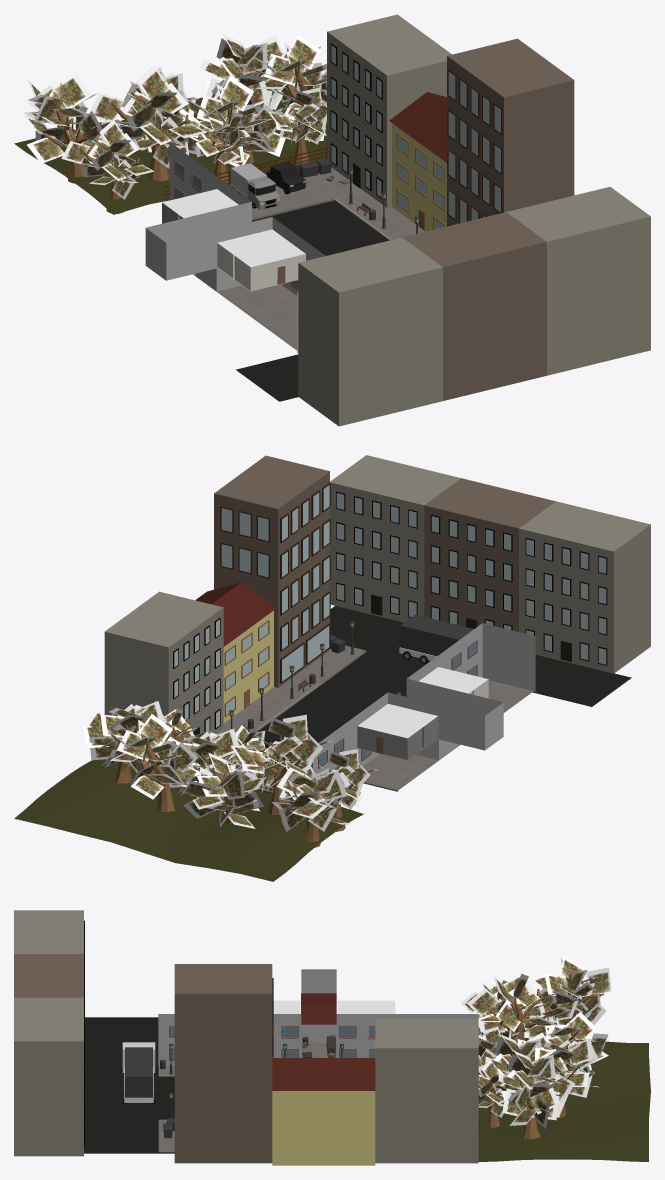
Rendered from samouczek_FIINAL2.fbx.
3 renders of one model, top to bottom at view 1: azimuth 30°, elevation 25°; view 2: azimuth 150°, elevation 25°; view 3: azimuth 270°, elevation 25°, orthographic. The views are drawn at different scales.
Parts seen in each view (by area): view 1: drzwi.002, Cube.002, drzwi, alejka, Cylinder.029, droga, Plane.003, Plane.007, Plane.008, Plane.026, Cylinder.003, Plane.006 (+15 smaller); view 2: drzwi.002, Plane.008, drzwi, Cube.002, droga, alejka, Plane.003, Plane.006, Plane.007, Cylinder.029, Plane.001, droga.002 (+15 smaller); view 3: Cube.002, drzwi.002, drzwi, Plane.008, droga, Cube.001, alejka, Plane.005, Cylinder.029, Cube.003, Plane.007, auto (+13 smaller).
Part boxes in pixels (<box>): drzwi.002: <box>298,187,650,426</box>; Cube.002: <box>447,38,574,226</box>; drzwi: <box>327,14,451,207</box>; alejka: <box>145,142,325,352</box>; Cylinder.029: <box>88,65,207,181</box>; droga: <box>236,200,388,401</box>; Plane.003: <box>447,69,502,223</box>; Plane.007: <box>24,74,122,183</box>; Plane.008: <box>14,87,326,214</box>; Plane.026: <box>186,76,291,166</box>; Cylinder.003: <box>61,119,154,213</box>; Plane.006: <box>200,35,285,116</box>; drzwi.002: <box>330,455,650,673</box>; Plane.008: <box>14,759,363,881</box>; drzwi: <box>104,591,223,748</box>; Cube.002: <box>214,455,329,687</box>; droga: <box>257,606,631,768</box>; alejka: <box>312,623,535,773</box>; Plane.003: <box>280,482,330,651</box>; Plane.006: <box>108,714,200,811</box>; Plane.007: <box>271,763,351,847</box>; Cylinder.029: <box>231,714,332,814</box>; Plane.001: <box>182,752,266,828</box>; droga.002: <box>216,645,366,734</box>; Cube.002: <box>174,964,272,1163</box>; drzwi.002: <box>14,910,84,1156</box>; drzwi: <box>375,1019,478,1163</box>; Plane.008: <box>478,1038,650,1161</box>; droga: <box>84,1017,174,1153</box>; Cube.001: <box>272,1091,375,1165</box>; alejka: <box>158,969,478,1066</box>; Plane.005: <box>498,1048,575,1139</box>; Cylinder.029: <box>467,973,571,1043</box>; Cube.003: <box>272,1058,375,1090</box>; Plane.007: <box>531,956,611,1025</box>; auto: <box>121,1042,156,1103</box>.
Bounding box in the file's own units: 7276 × 4034 × 2315.
